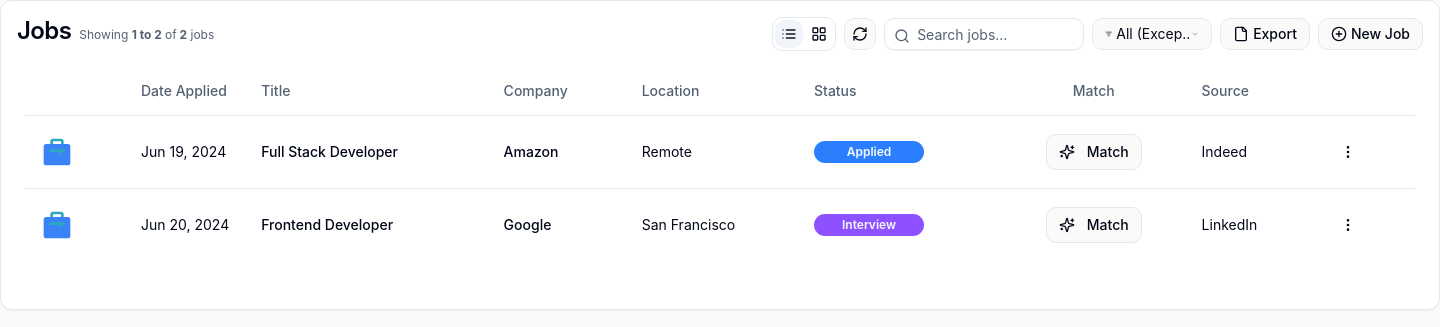
Test: JobsContainer Search Functionality › view mode toggle › renders the table by default and switches to cards on toggle
The image size is (1440, 327).
Expected: the table is shown, [25,67,1415,260]
Click the button with test id "jobs-view-cards-btn" at (819,34), box [805,20,833,48]
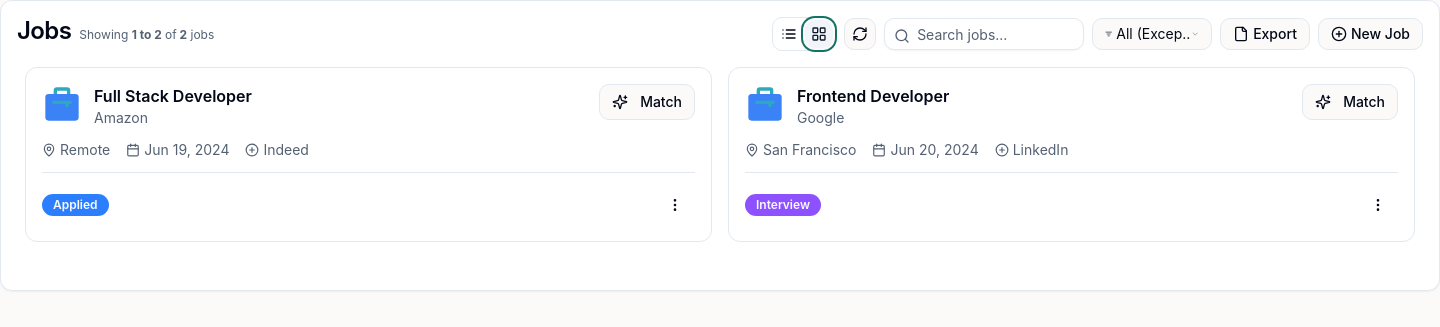
Result: the table is gone
